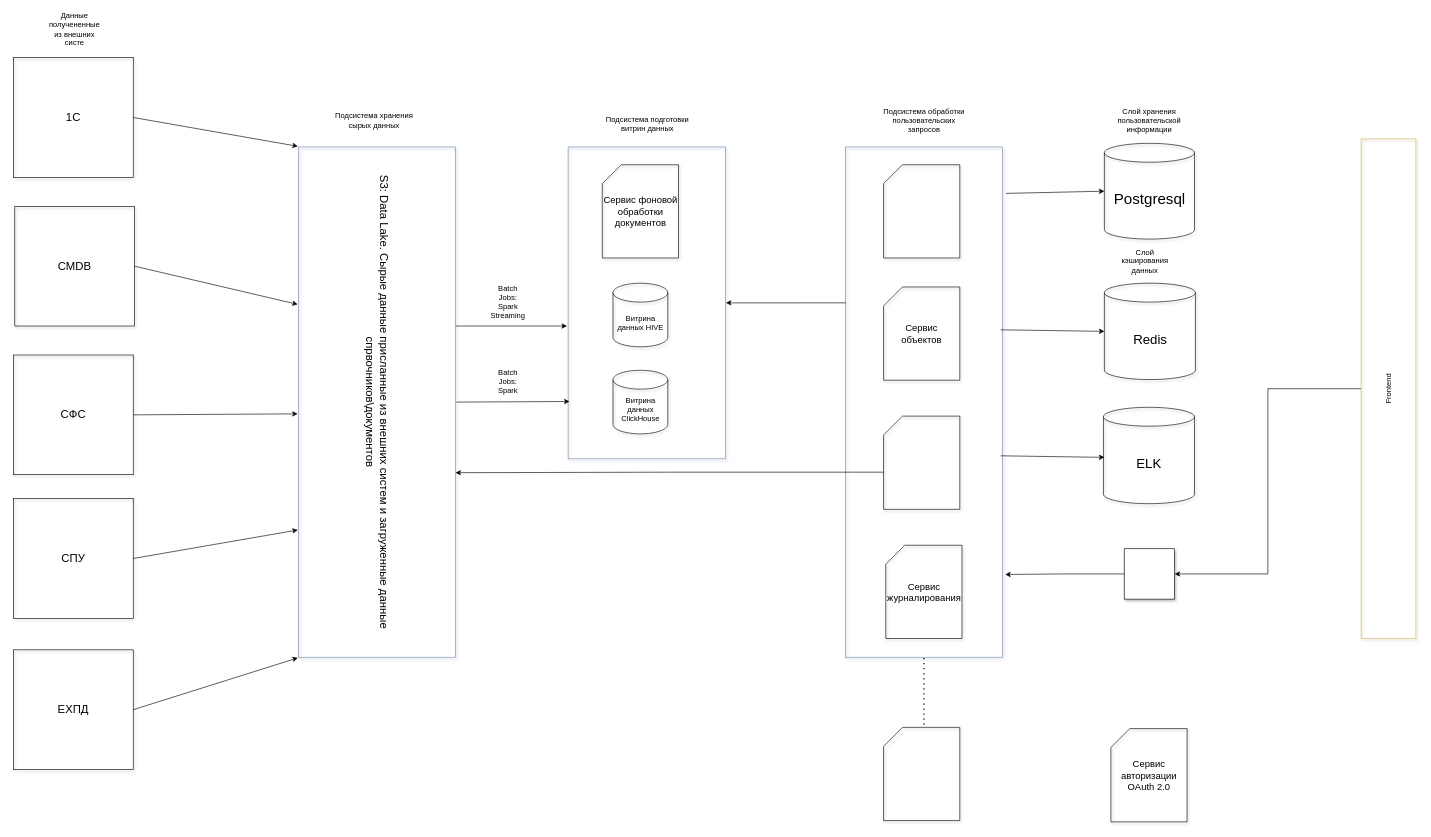
This 1431x837 diagram has some shape labels left out. The shapes that lost their labels are listed below. From the top down, each one's centre as x and y in pixels, then its label:
At (x=922, y=212): "Сервис метаданных".
At (x=922, y=463): "Сервис справочников и НСИ".
At (x=1149, y=575): "Nginx".
At (x=922, y=774): "Kafka Server".
